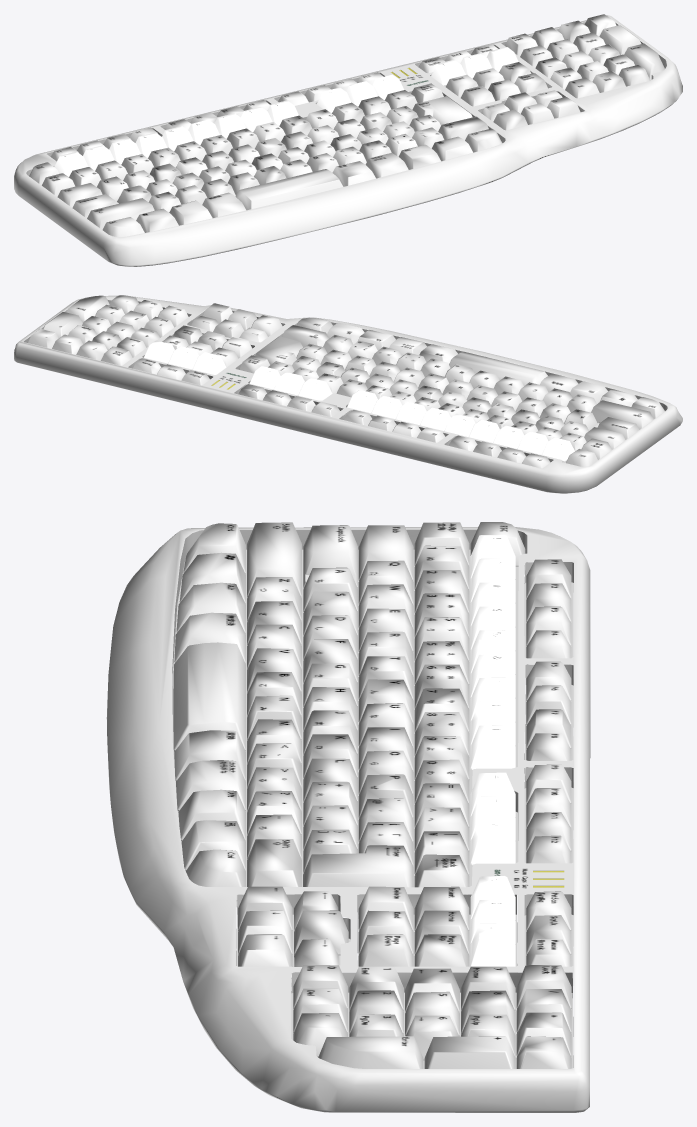
The model's file is keyboard.glb.
3 views of the same model, one above another, from view 1: azimuth 30°, elevation 25°; view 2: azimuth 150°, elevation 25°; view 3: azimuth 270°, elevation 25° (orthographic). The views are drawn at different scales.
Parts seen in each view (by area): view 1: key.white, body.outer, key.gray, body.inner; view 2: key.white, body.outer, key.gray, body.inner; view 3: key.white, body.outer, key.gray, body.inner.
Part boxes in pixels (<box>): key.white: <box>29,14,664,236</box>; body.outer: <box>14,15,682,266</box>; key.gray: <box>54,47,518,176</box>; body.inner: <box>26,22,666,175</box>; key.white: <box>28,295,664,468</box>; body.outer: <box>14,295,682,493</box>; key.gray: <box>144,340,574,461</box>; body.inner: <box>23,299,667,462</box>; key.white: <box>173,522,571,1068</box>; body.outer: <box>106,527,590,1112</box>; key.gray: <box>470,535,515,966</box>; body.inner: <box>172,529,573,1068</box>.
Bounding box in the file's own units: 7.66 × 0.3984 × 2.83.
Materials: 6 (3 with a texture image).
